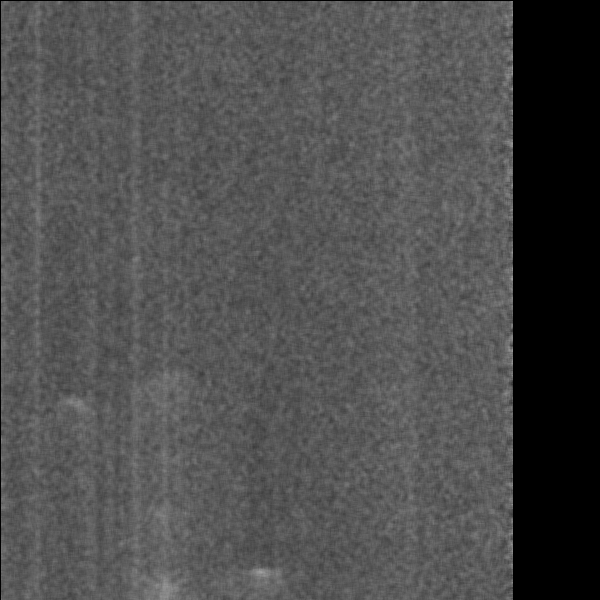spark: (148, 566, 181, 600), (243, 561, 278, 593), (64, 393, 91, 432)
